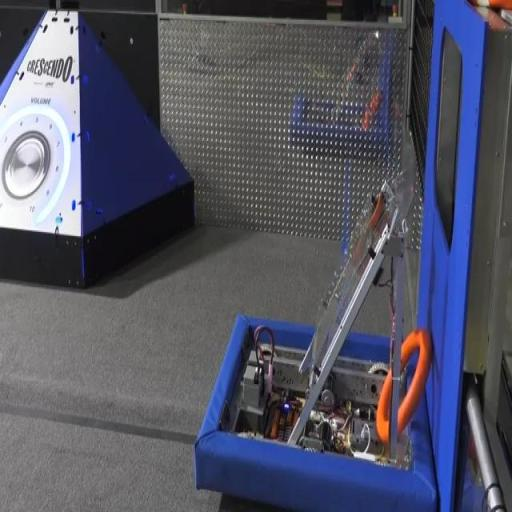robot: (192, 124, 448, 512)
